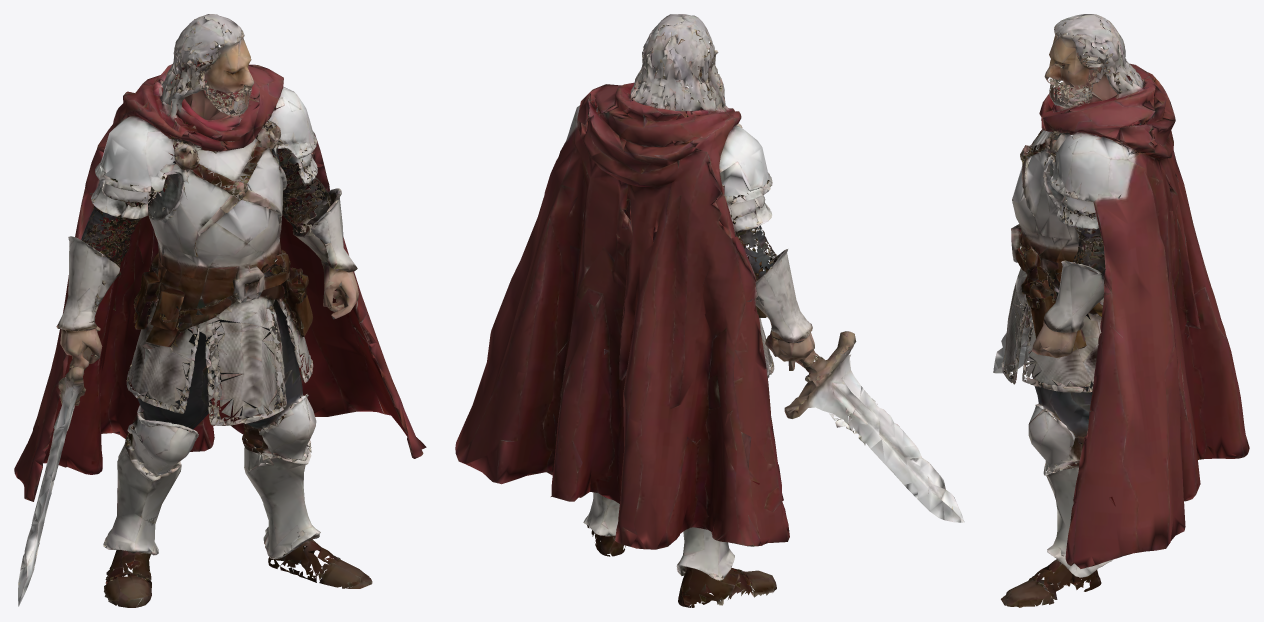
File: fig_npc_kaelen.glb
3 views of the same model, side by side, from view 1: azimuth 30°, elevation 25°; view 2: azimuth 150°, elevation 25°; view 3: azimuth 270°, elevation 25° (orthographic). The views are drawn at different scales.
Parts seen in each view (by area): view 1: geometry_0; view 2: geometry_0; view 3: geometry_0.
Boxes of the visible parts, left/top/right/bottom form: geometry_0: left=14, top=14, right=426, bottom=607; geometry_0: left=455, top=14, right=964, bottom=607; geometry_0: left=993, top=14, right=1249, bottom=607.
Size of the model in its own units: 0.7837 by 0.9283 by 0.4028.
Materials: 1 (1 with a texture image).
